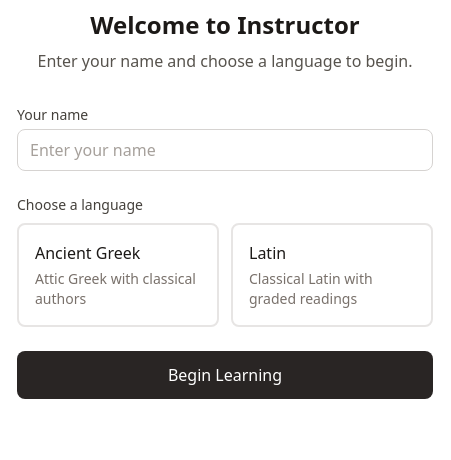
RegisterPage › shows API error on failure
In the field labelled "Your name": (225, 150) x1=17 y1=129 x2=433 y2=171, type "Alice"
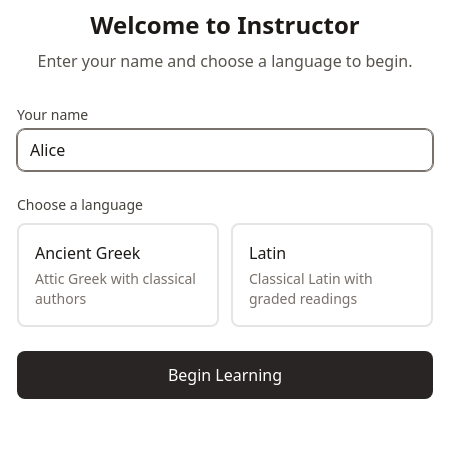
Click the text "Ancient Greek": (88, 253) x1=35 y1=242 x2=140 y2=264
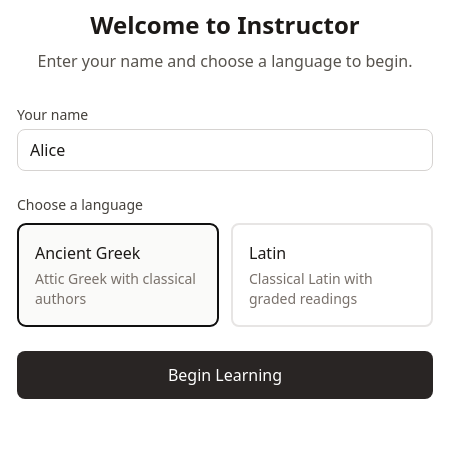
Click the button "Begin Learning": (225, 375) x1=17 y1=351 x2=433 y2=399
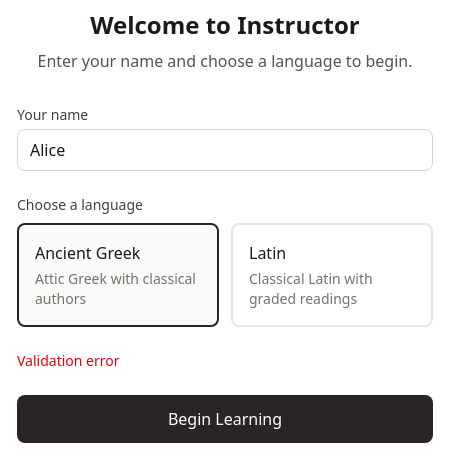
Now the message reads "Validation error", box x1=17 y1=351 x2=120 y2=370
